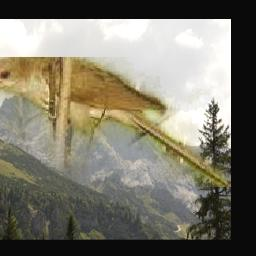Cuckoo: (0, 58, 230, 188)
